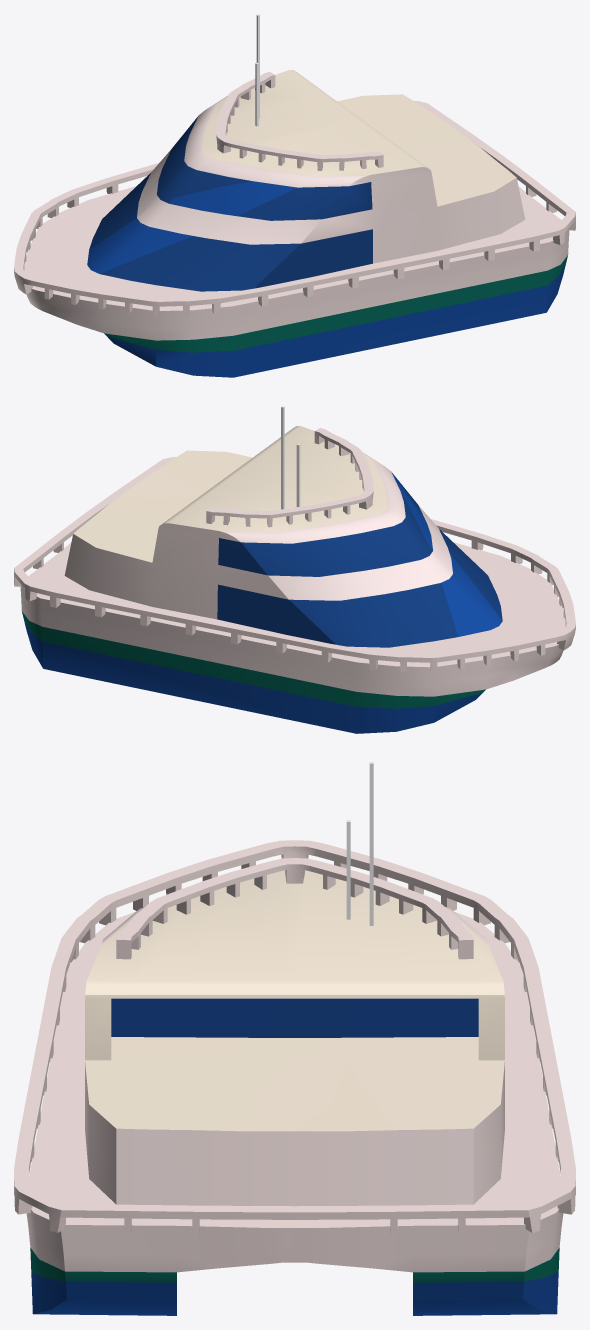
File: ferry.glb
3 renders of one model, top to bottom at view 1: azimuth 30°, elevation 25°; view 2: azimuth 150°, elevation 25°; view 3: azimuth 270°, elevation 25°, orthographic. The views are drawn at different scales.
Parts seen in each view (by area): view 1: Cube.770; view 2: Cube.770; view 3: Cube.770.
Part boxes in pixels (<box>): Cube.770: <box>14,14,575,377</box>; Cube.770: <box>14,406,575,733</box>; Cube.770: <box>14,762,575,1315</box>.
Bounding box in the file's own units: 2.37 × 1.23 × 1.51.
Materials: 1 (1 with a texture image).
